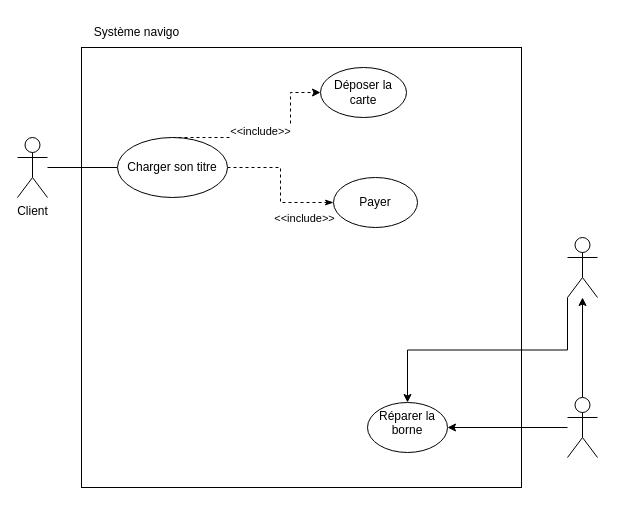
Some shapes in this 628 by 505 pixel diagram are drawn without their labels. The shapes that lost their labels are listed below. From the top down, each one's centre as x and y in pixels, then its label:
At [582,267]: "Agent".
At [582,427]: "Technicien".
